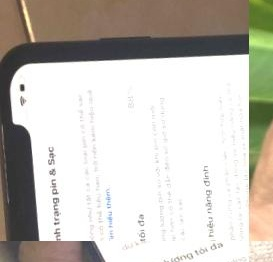scratch: (0, 96, 39, 241)
